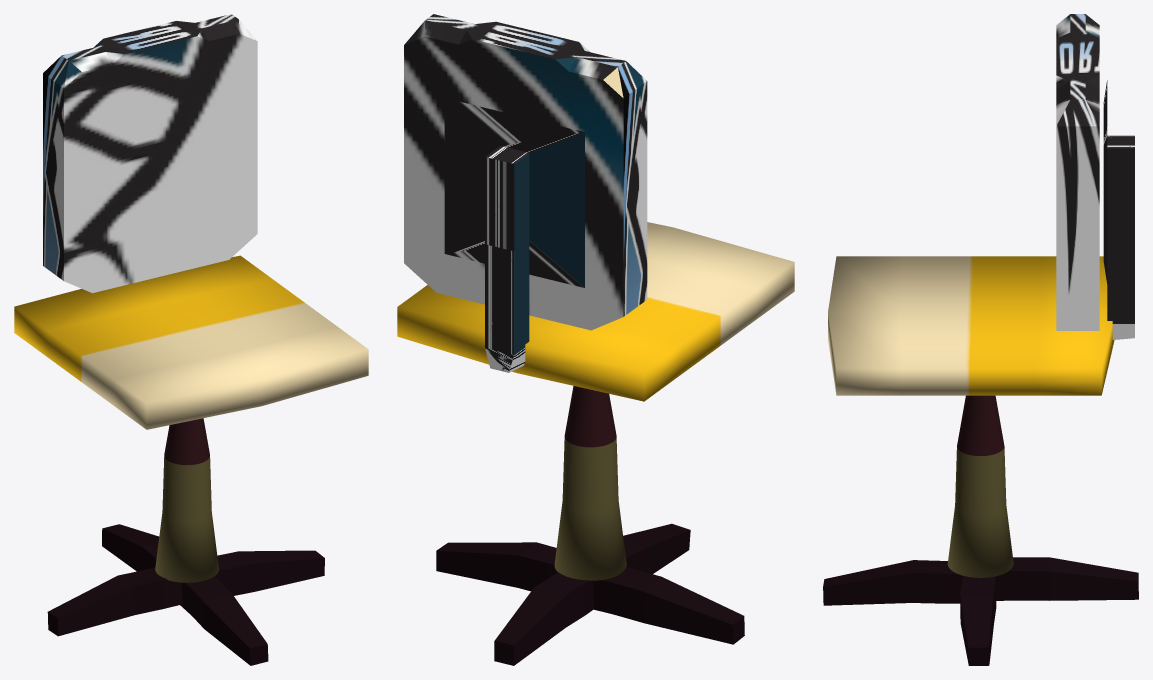
File: chair.gltf
3 renders of one model, left to right at view 1: azimuth 30°, elevation 25°; view 2: azimuth 150°, elevation 25°; view 3: azimuth 270°, elevation 25°, orthographic. The views are drawn at different scales.
Visible parts, largest first — view 1: Cube.001; view 2: Cube.001; view 3: Cube.001.
Part boxes in pixels (left/top/right/bottom): Cube.001: left=14, top=14, right=368, bottom=665; Cube.001: left=397, top=14, right=794, bottom=665; Cube.001: left=823, top=14, right=1138, bottom=665.
Size of the model in its own units: 0.6074 by 1.17 by 0.6068.
Materials: 7 (7 with a texture image).
